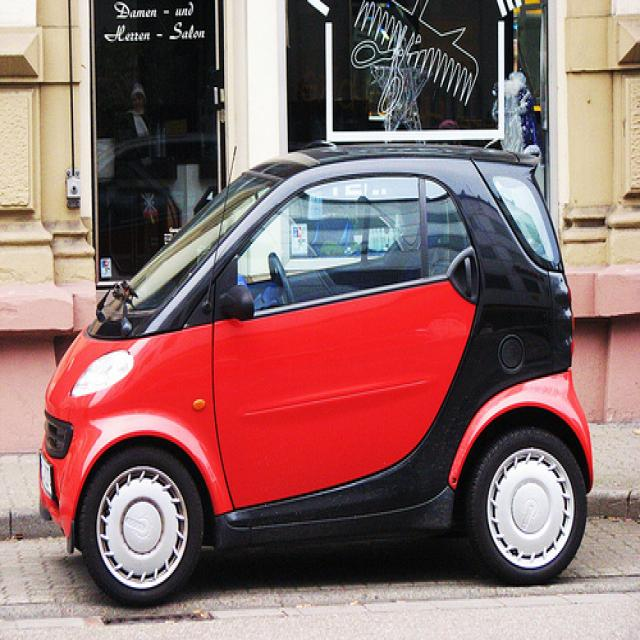Car: (31, 135, 595, 603)
